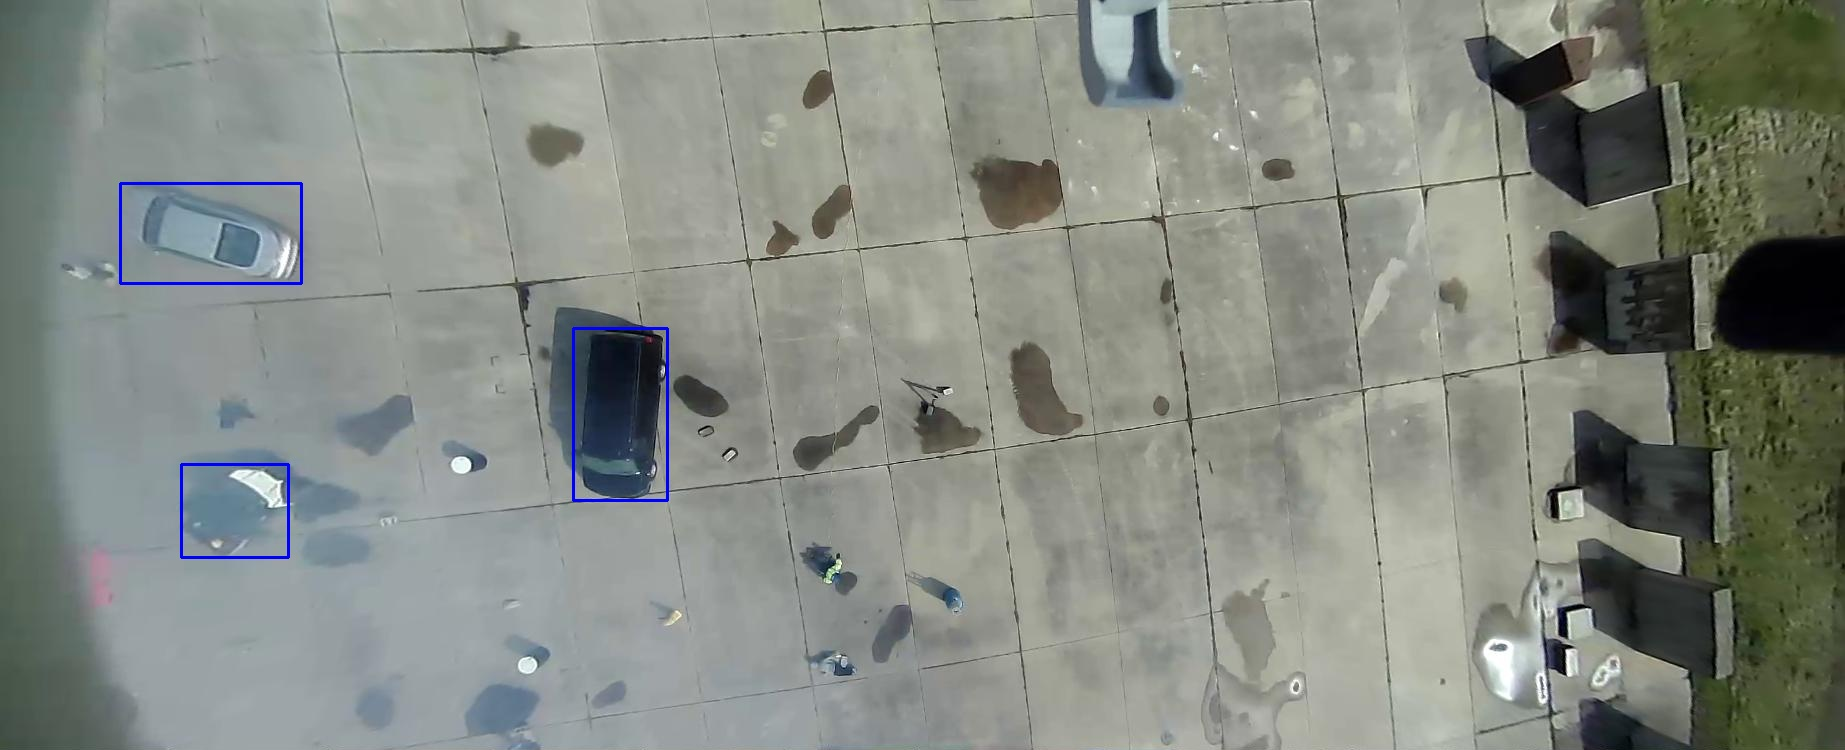vehicle: (184, 120, 284, 301), (328, 573, 500, 668), (464, 181, 557, 288)
